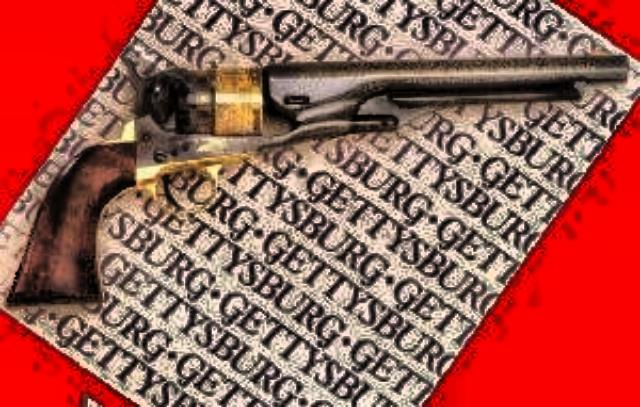pistol: (1, 37, 626, 307)
